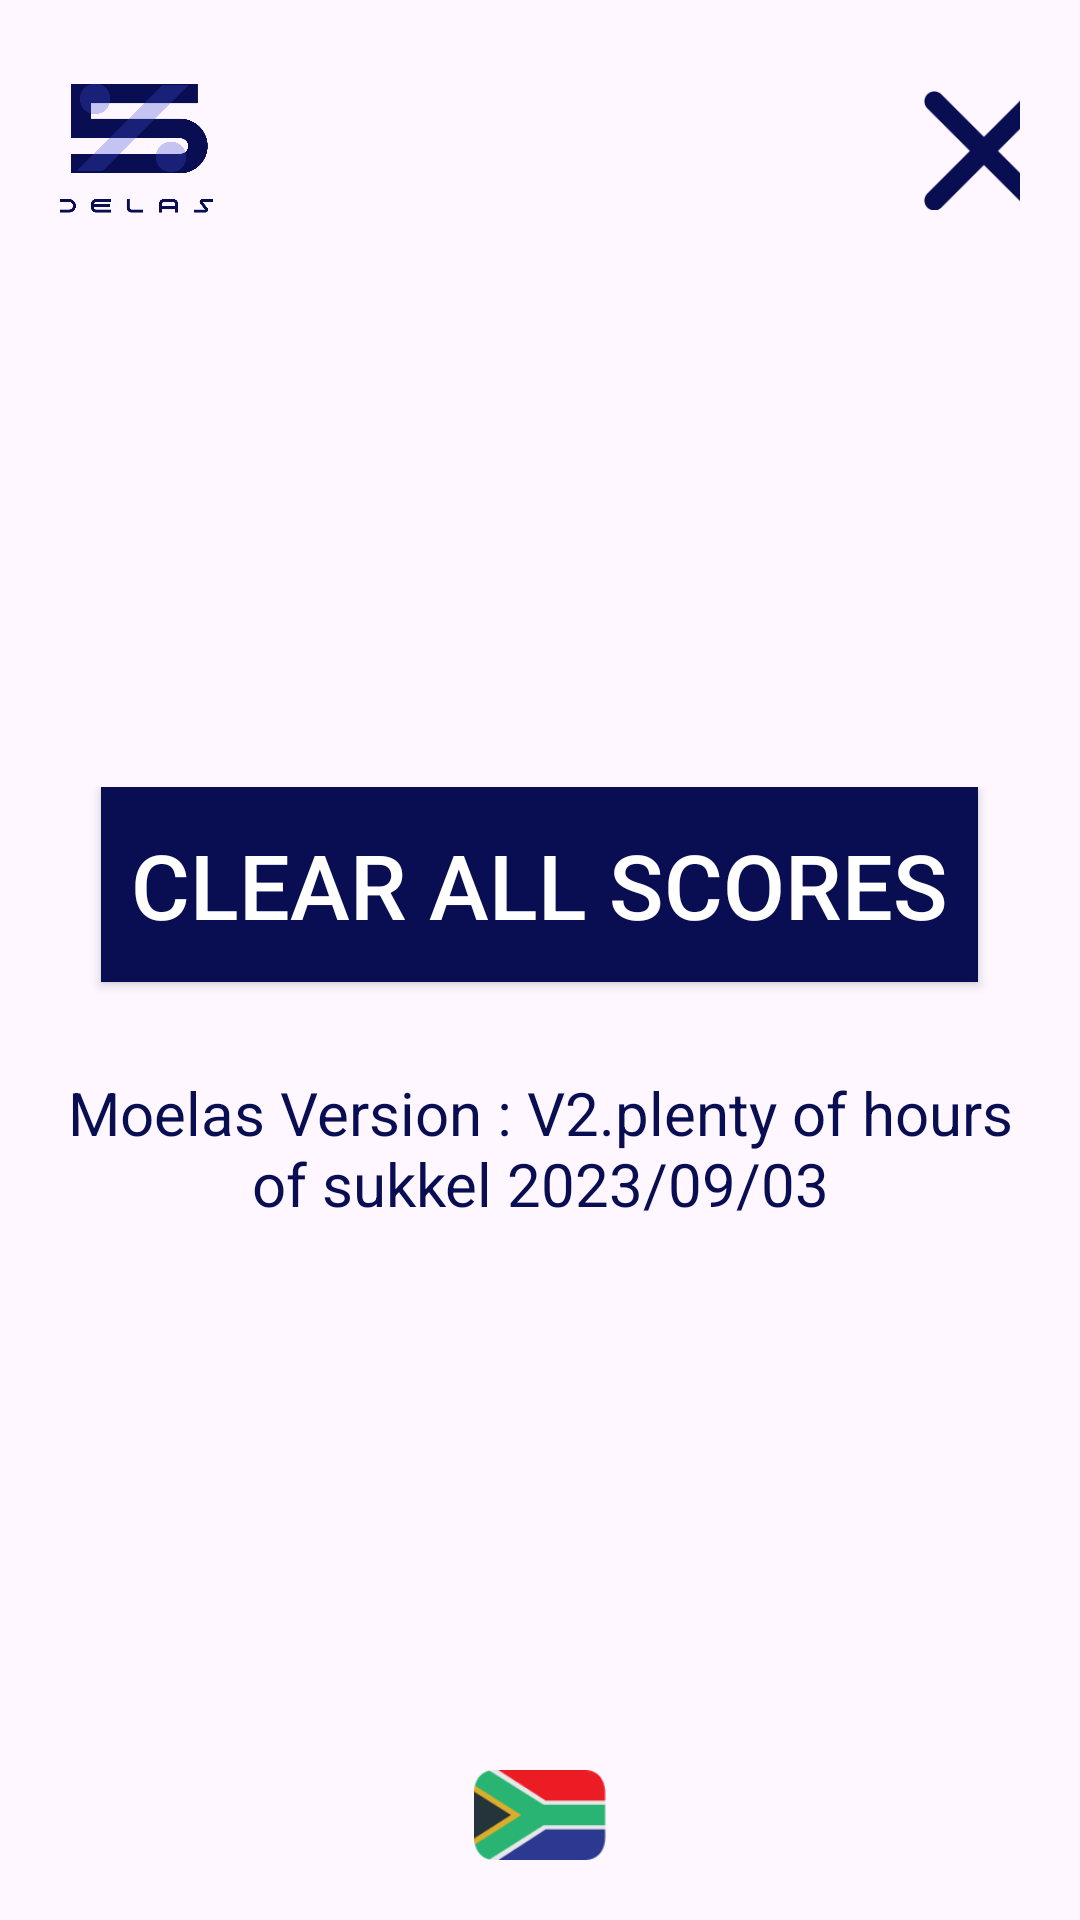

Where to tap for icons on this 1080px x 1920px app screen, as (x=x, y=y):
flag: (x=540, y=1815)
